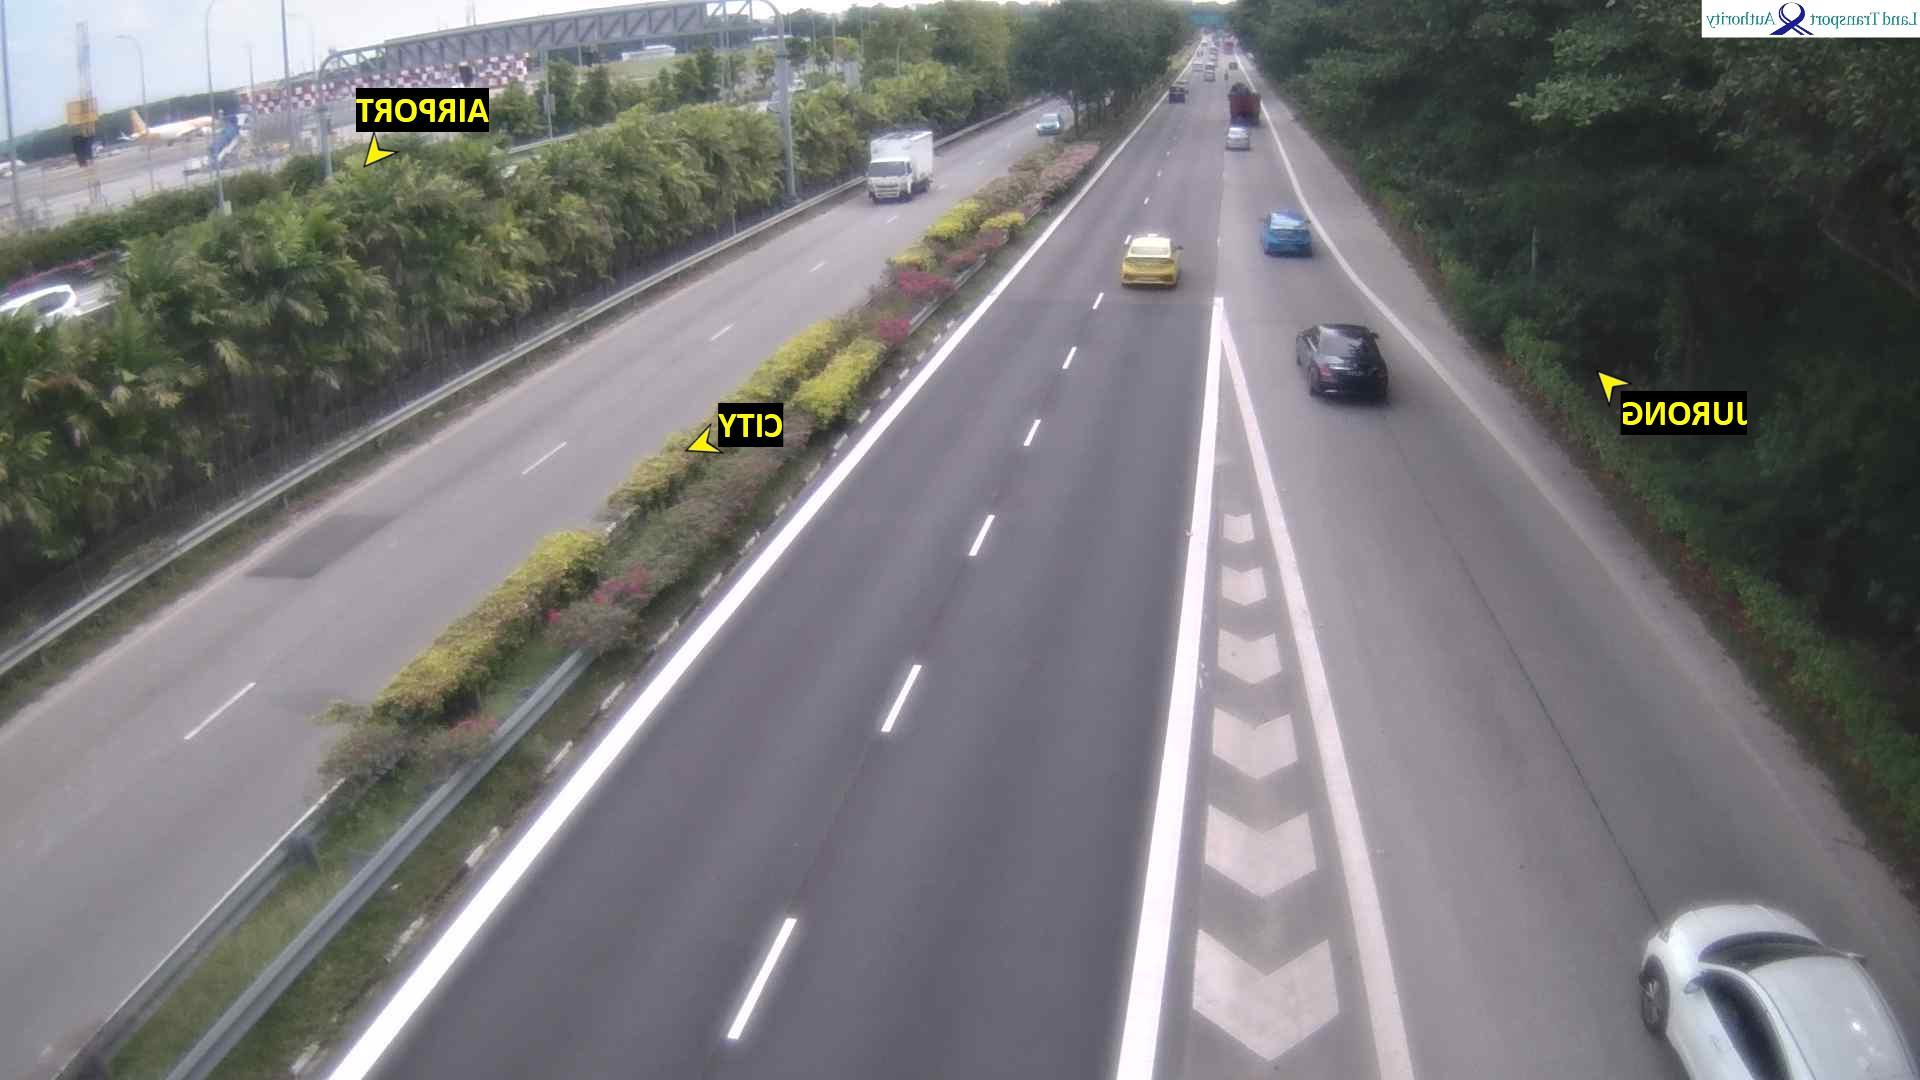incoming: (861, 157, 919, 207), (1031, 112, 1065, 136)
